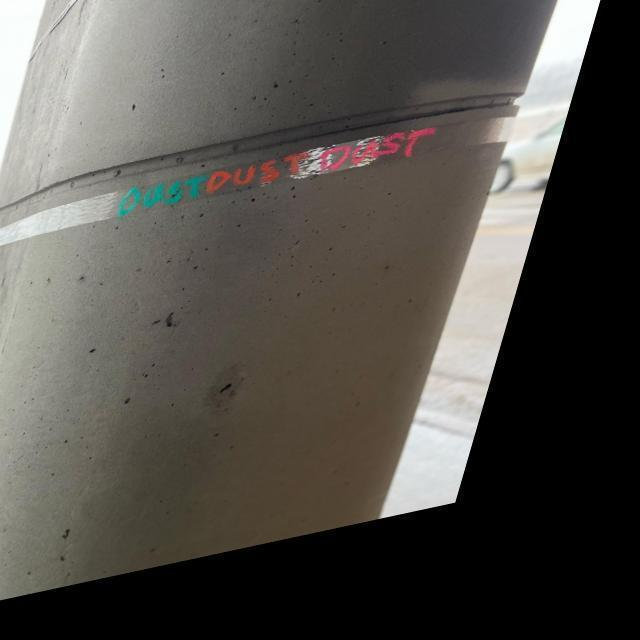nonspitting: (115, 124, 436, 217)
